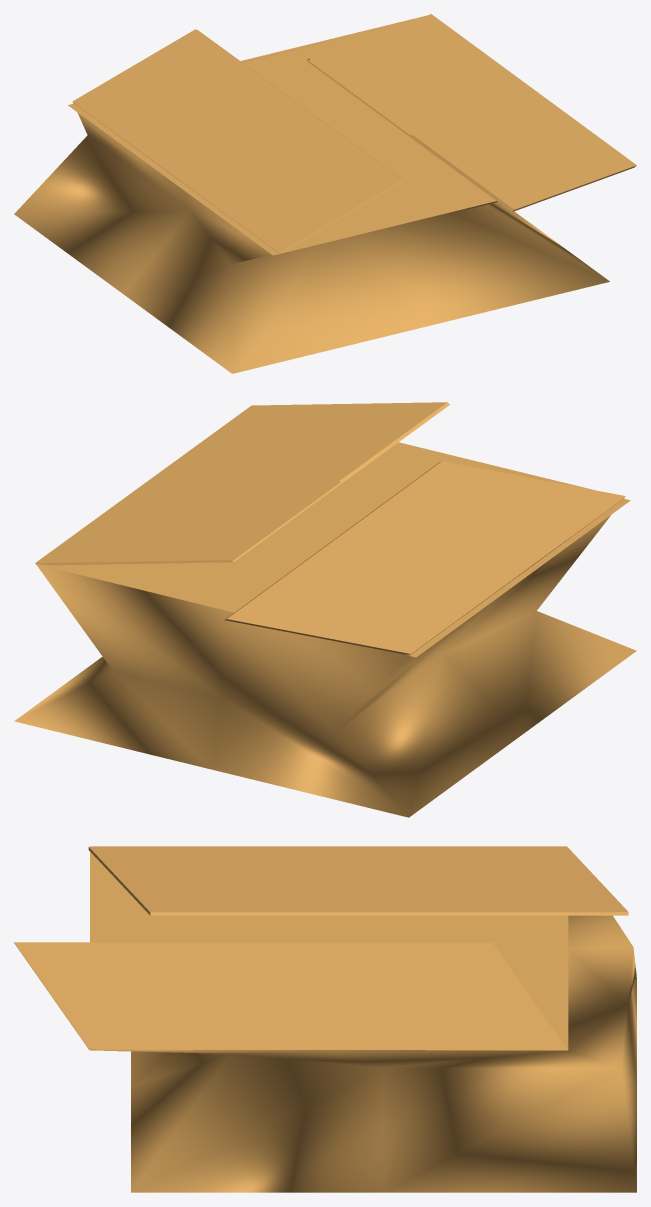
File: CardboardCrushedBox.fbx
3 renders of one model, top to bottom at view 1: azimuth 30°, elevation 25°; view 2: azimuth 150°, elevation 25°; view 3: azimuth 270°, elevation 25°, orthographic. The views are drawn at different scales.
Parts seen in each view (by area): view 1: CrushedBox; view 2: CrushedBox; view 3: CrushedBox.
Boxes of the visible parts, box(x1,y1,x2,y2) form: CrushedBox: box(14, 14, 636, 373); CrushedBox: box(14, 402, 636, 817); CrushedBox: box(14, 846, 636, 1192).
Bounding box in the file's own units: 108 × 38.62 × 130.
